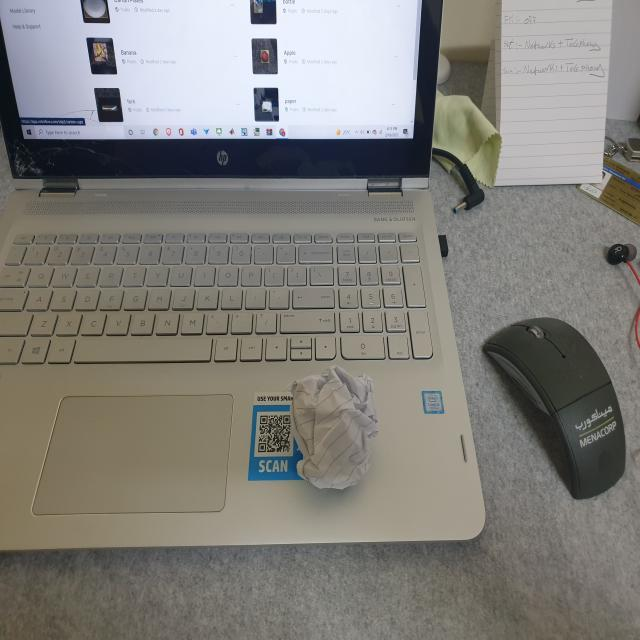Paper: (291, 368, 378, 488)
